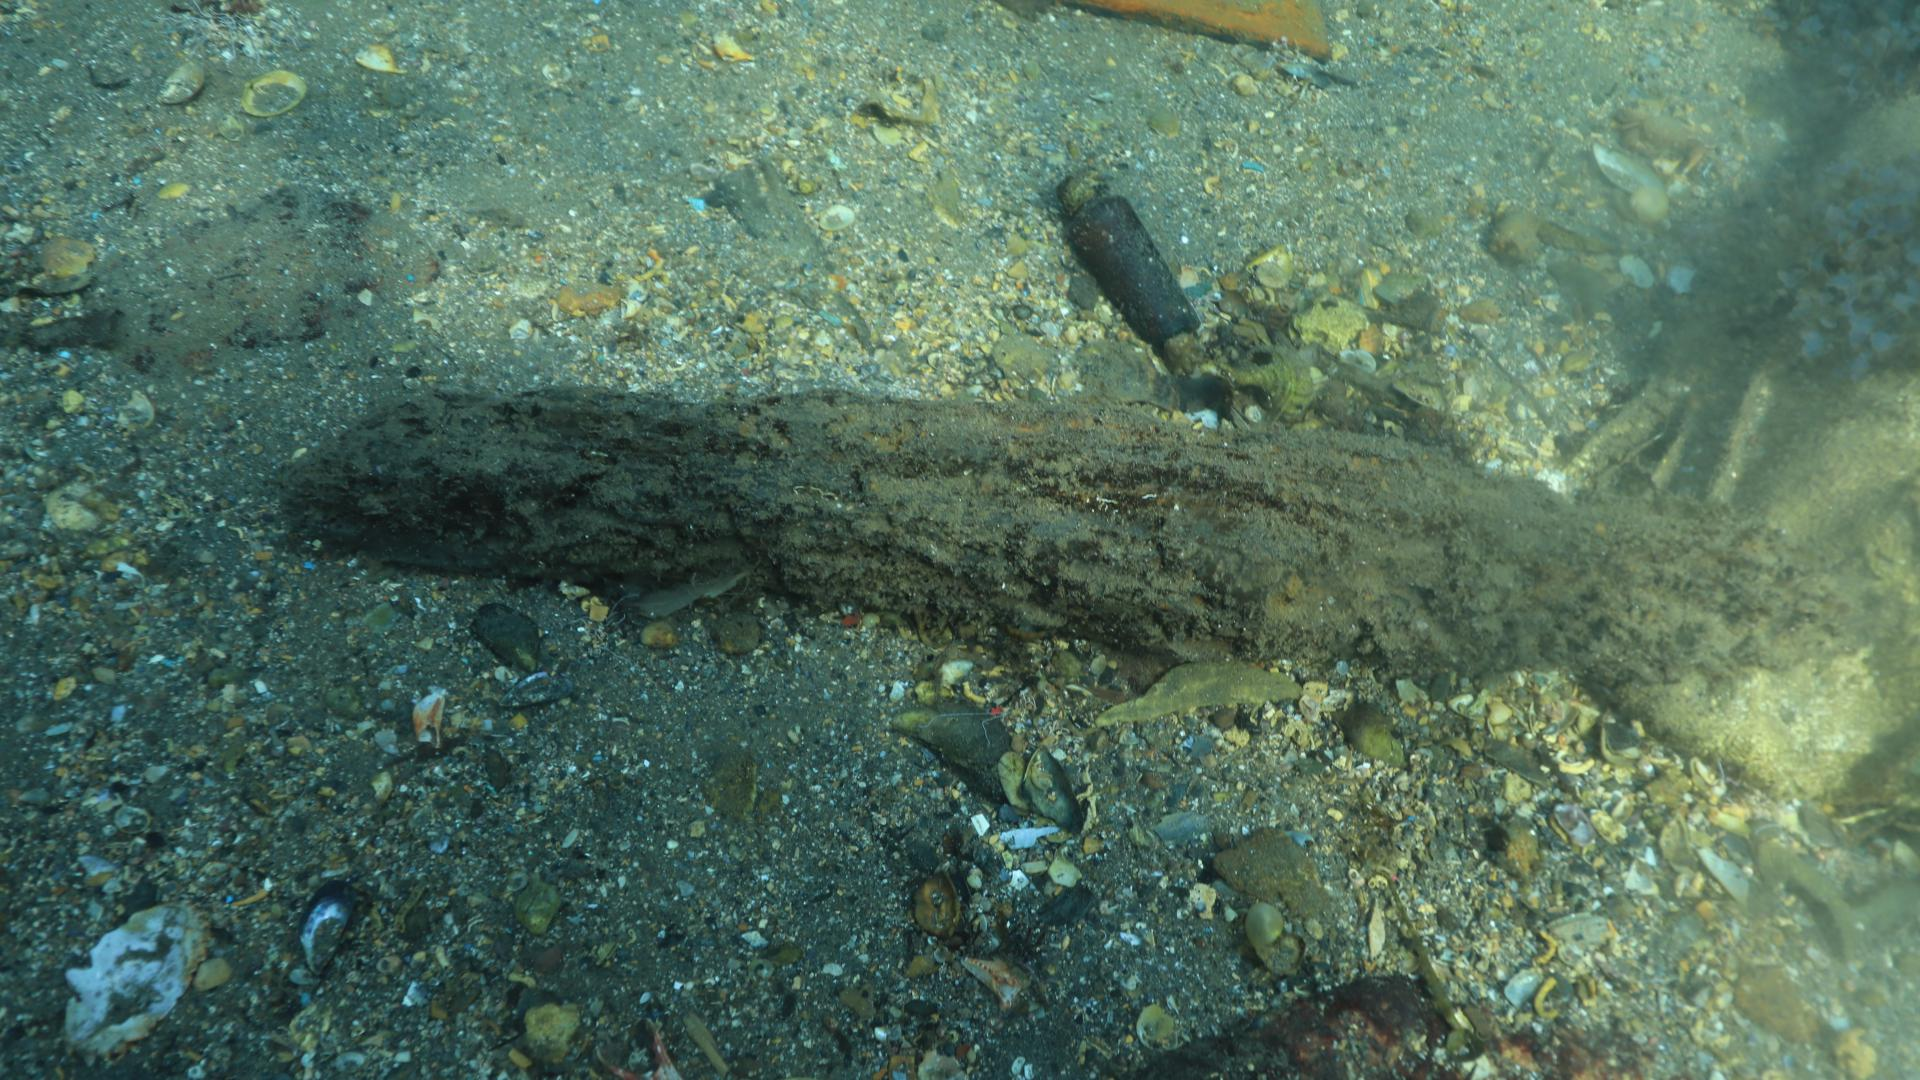wood: (278, 382, 1847, 686), (1076, 0, 1336, 61)
